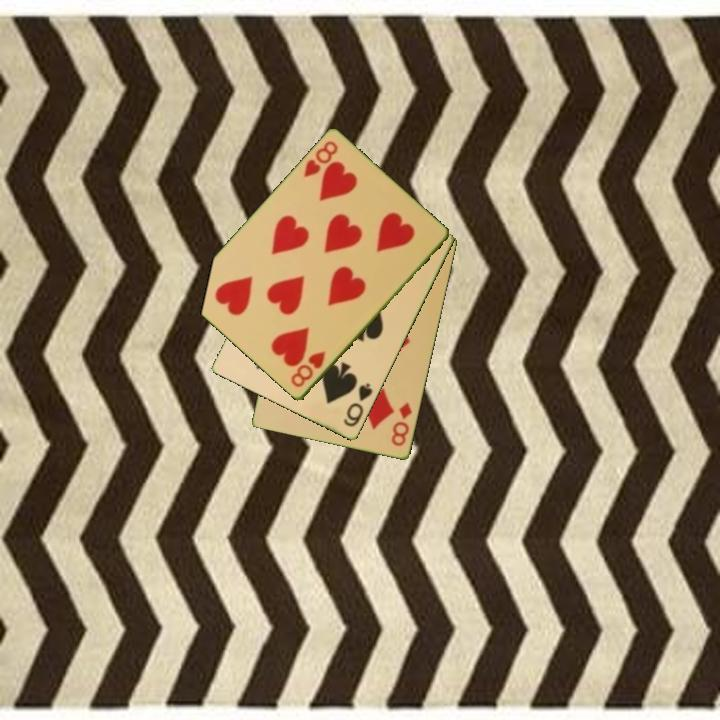6s: (340, 380, 376, 430)
8d: (388, 399, 415, 449)
8h: (287, 348, 328, 391), (300, 138, 341, 181)
